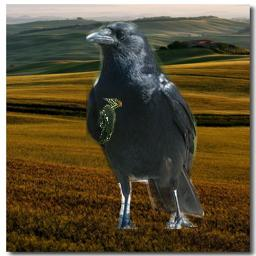Crow: (86, 21, 204, 229)
Woodpecker: (99, 98, 122, 144)
